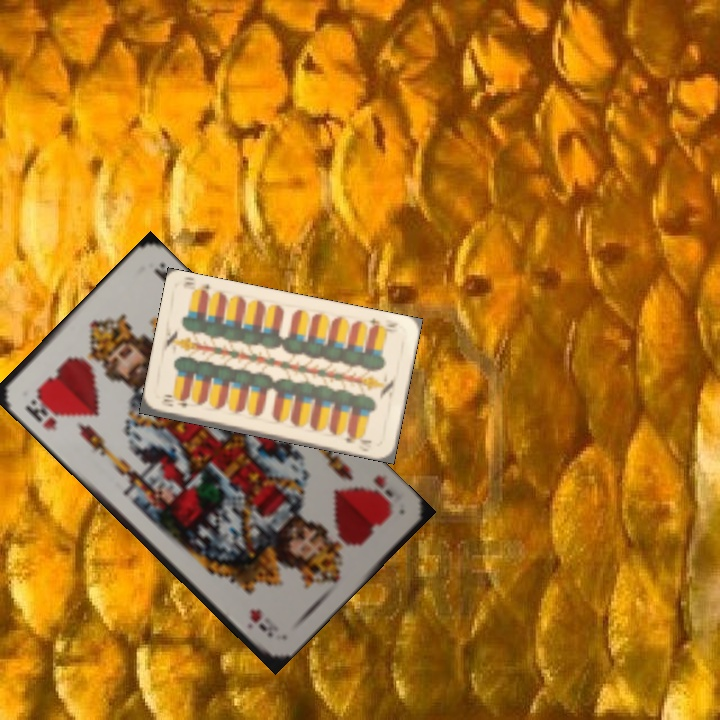E10: (365, 314, 401, 331), (157, 394, 190, 409)
HK: (20, 392, 60, 434), (363, 471, 396, 516)
